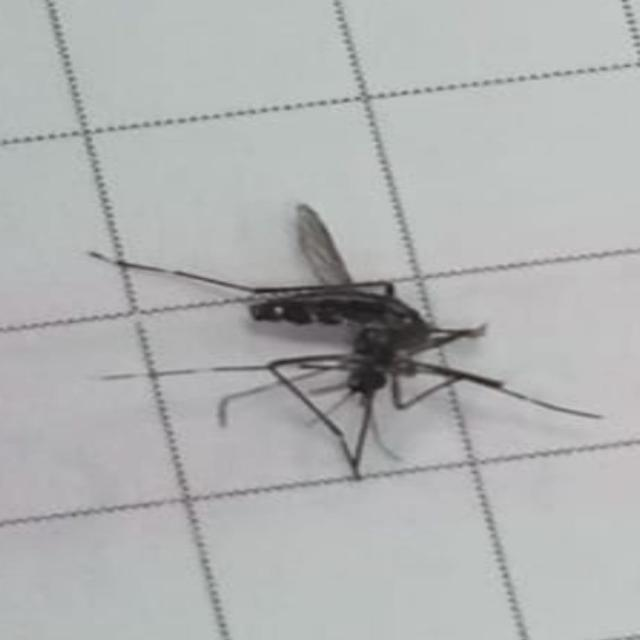albopictus: (39, 182, 614, 492)
